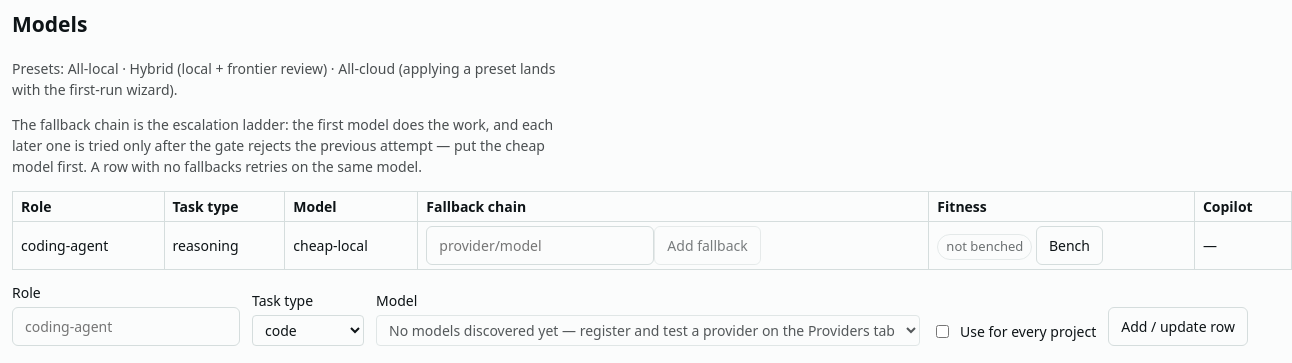
Test case: the fitness column earns its place (W19-06) › RED FIXTURE: "not benched" now carries the Bench action; clicking it runs the bench and the returned verdict fills the cell — no more permanent wall
The width and height of the screenshot is (1292, 363).
Click the button with test id "bench-coding-agent-reasoning".
click(1069, 246)  # box [1036,226,1103,265]
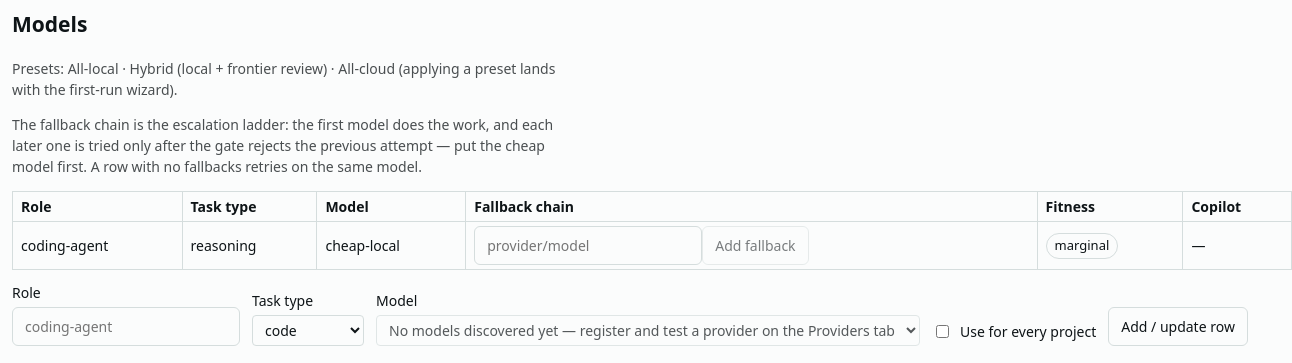
Expected: the text with test id "bench-verdict-coding-agent-reasoning" reads "marginal", [1055,236,1109,254]
